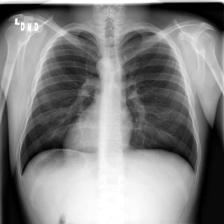normal: (15, 23, 201, 178)
